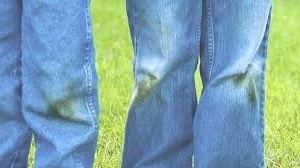earth: (239, 75, 260, 100), (135, 78, 157, 100), (47, 100, 70, 118)
